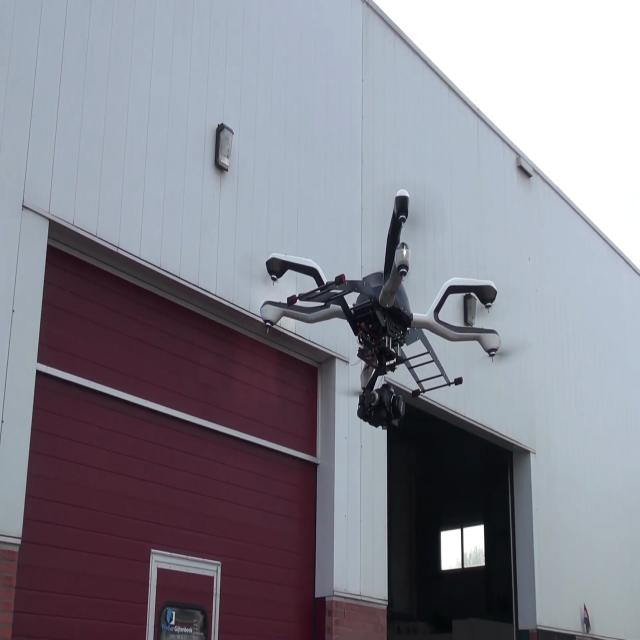drone: (240, 186, 509, 432)
